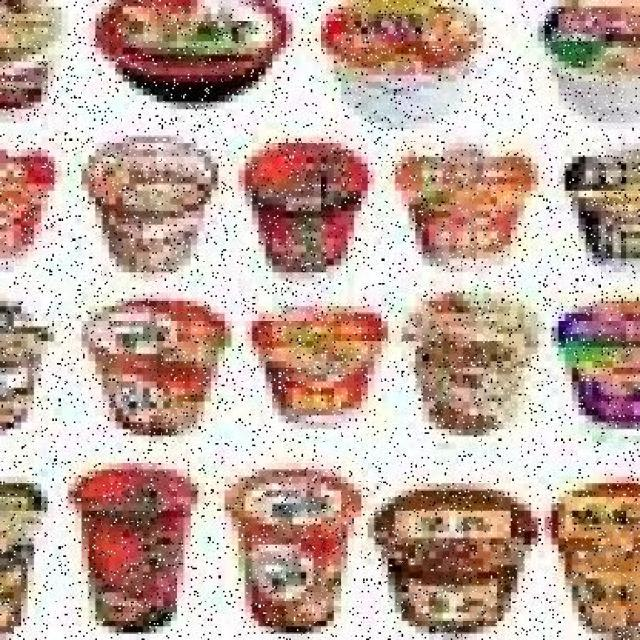Miscellaneous: (368, 480, 538, 622), (390, 290, 544, 442), (222, 465, 362, 630), (72, 463, 203, 626), (76, 298, 230, 436), (89, 0, 294, 102), (320, 0, 483, 115), (248, 302, 390, 428), (82, 138, 215, 272), (242, 142, 368, 276), (404, 144, 533, 262), (551, 476, 640, 627), (538, 0, 639, 115), (551, 306, 640, 428), (564, 143, 640, 258), (0, 0, 75, 115), (0, 298, 55, 441), (0, 477, 48, 640), (0, 143, 62, 259)
